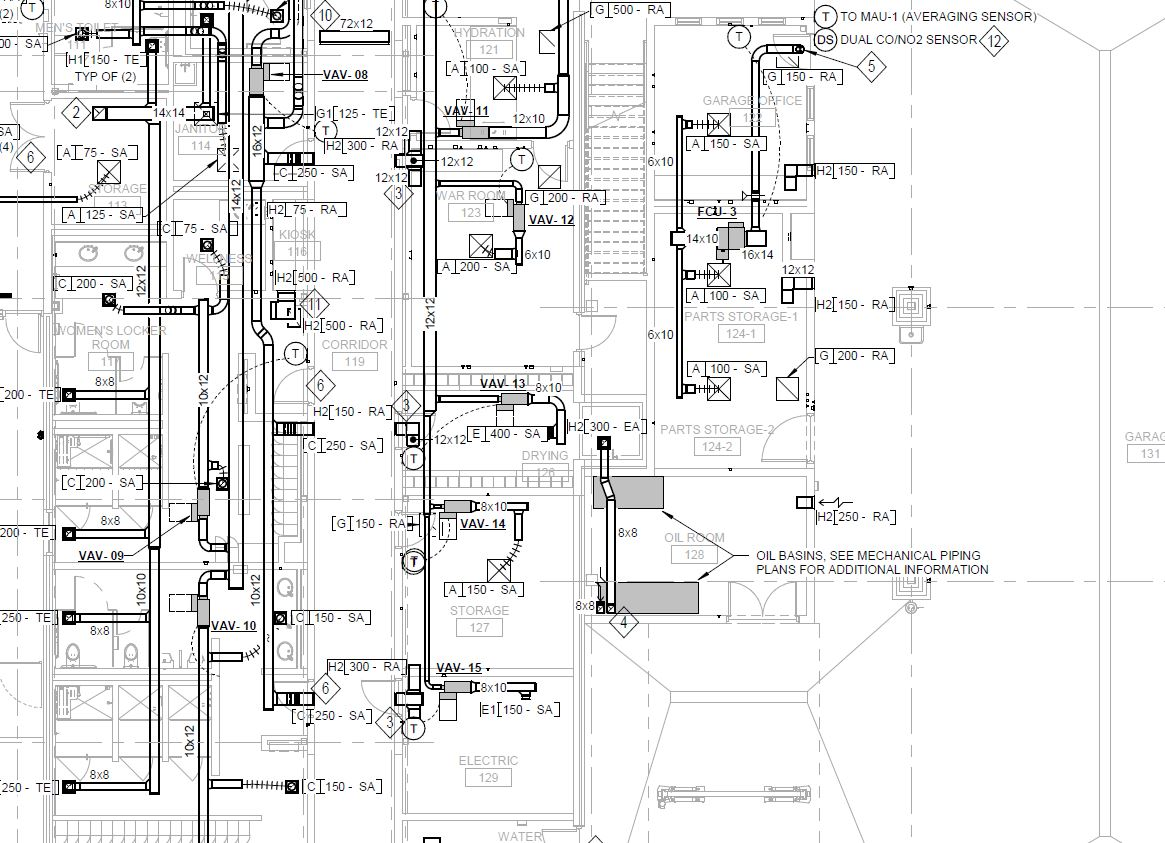VAV Boxes: (488, 382, 548, 430), (435, 663, 492, 712), (435, 109, 510, 145), (186, 474, 227, 539), (245, 53, 285, 117), (440, 481, 493, 529), (182, 574, 219, 640), (500, 182, 531, 248)
